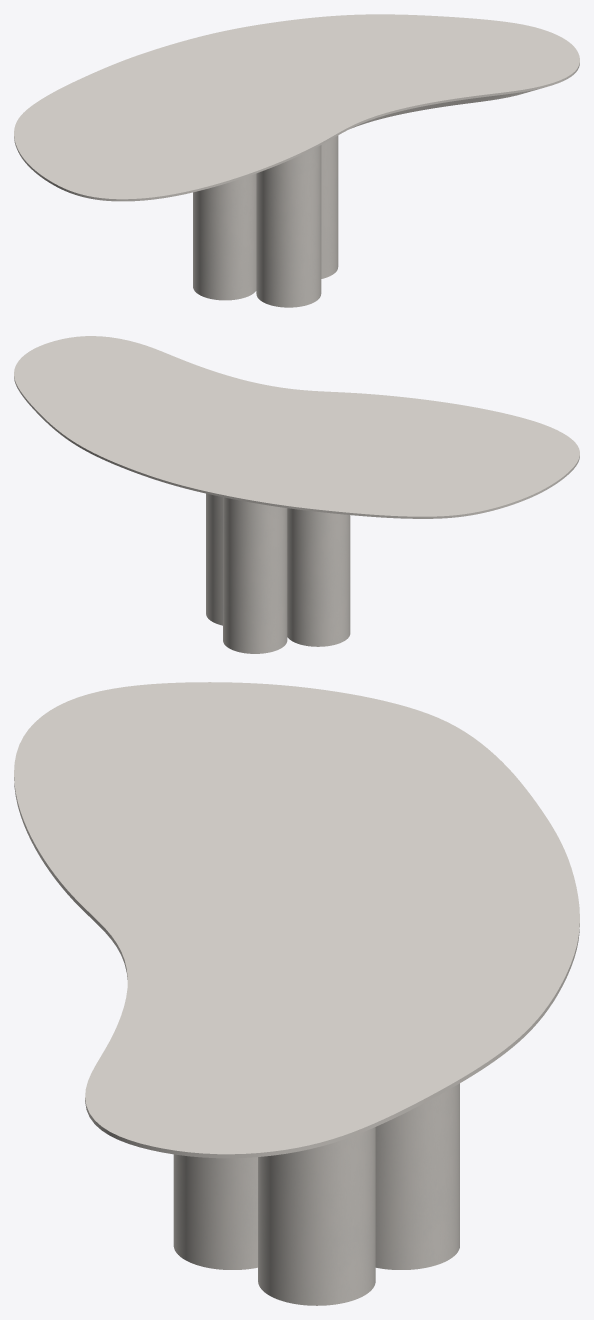
Rendered from purewhite_leaf1_facet_secondtable.glb.
3 views of the same model, one above another, from view 1: azimuth 30°, elevation 25°; view 2: azimuth 150°, elevation 25°; view 3: azimuth 270°, elevation 25° (orthographic). The views are drawn at different scales.
Parts seen in each view (by area): view 1: facet_leaf1, secondtable; view 2: facet_leaf1, secondtable; view 3: facet_leaf1, secondtable.
Boxes of the visible parts, box(x1,y1,x2,y2) form: facet_leaf1: box(14, 14, 579, 201); secondtable: box(193, 135, 338, 307); facet_leaf1: box(14, 336, 579, 518); secondtable: box(206, 493, 350, 653); facet_leaf1: box(14, 682, 579, 1158); secondtable: box(173, 1083, 459, 1305).
Bounding box in the file's own units: 7.5 × 2.5 × 3.8.
1 material, 1 textured.
